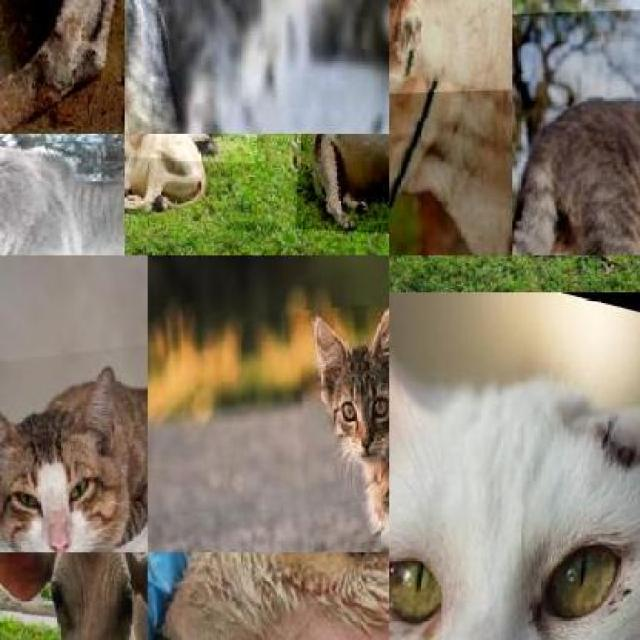cat: (389, 292, 640, 640), (0, 311, 148, 552), (512, 2, 640, 255), (283, 263, 389, 552)
cow: (389, 0, 512, 255), (0, 134, 125, 255), (0, 552, 148, 640), (390, 0, 512, 100), (296, 134, 390, 238)
injured: (0, 0, 125, 134), (558, 396, 640, 590)
